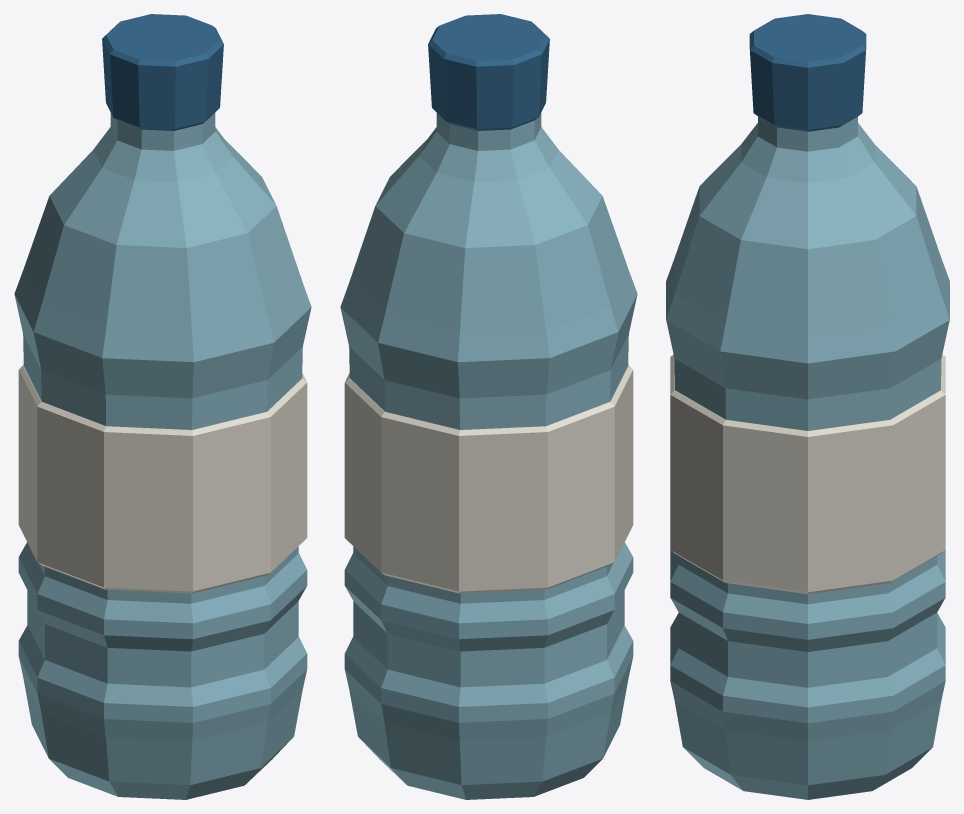
The model's file is b16_ribbed_water_bottle.glb.
The picture shows the model from 3 angles, left to right: view 1: azimuth 30°, elevation 25°; view 2: azimuth 150°, elevation 25°; view 3: azimuth 270°, elevation 25°; orthographic projection.
Visible parts, largest first — view 1: b16_ribbed_water_bottle; view 2: b16_ribbed_water_bottle; view 3: b16_ribbed_water_bottle.
Boxes of the visible parts, box(x1,y1,x2,y2) form: b16_ribbed_water_bottle: box(14, 14, 311, 799); b16_ribbed_water_bottle: box(340, 14, 637, 799); b16_ribbed_water_bottle: box(666, 14, 949, 799).
Size of the model in its own units: 0.068 by 0.18 by 0.0647.
